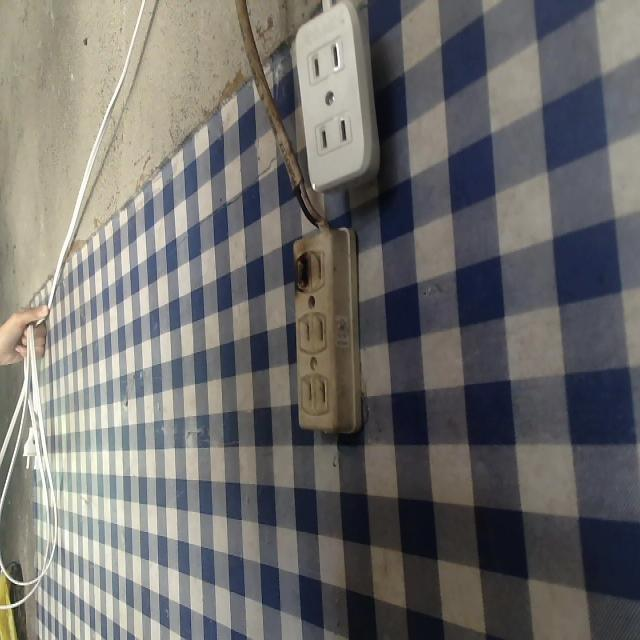-: (291, 239, 318, 297)
